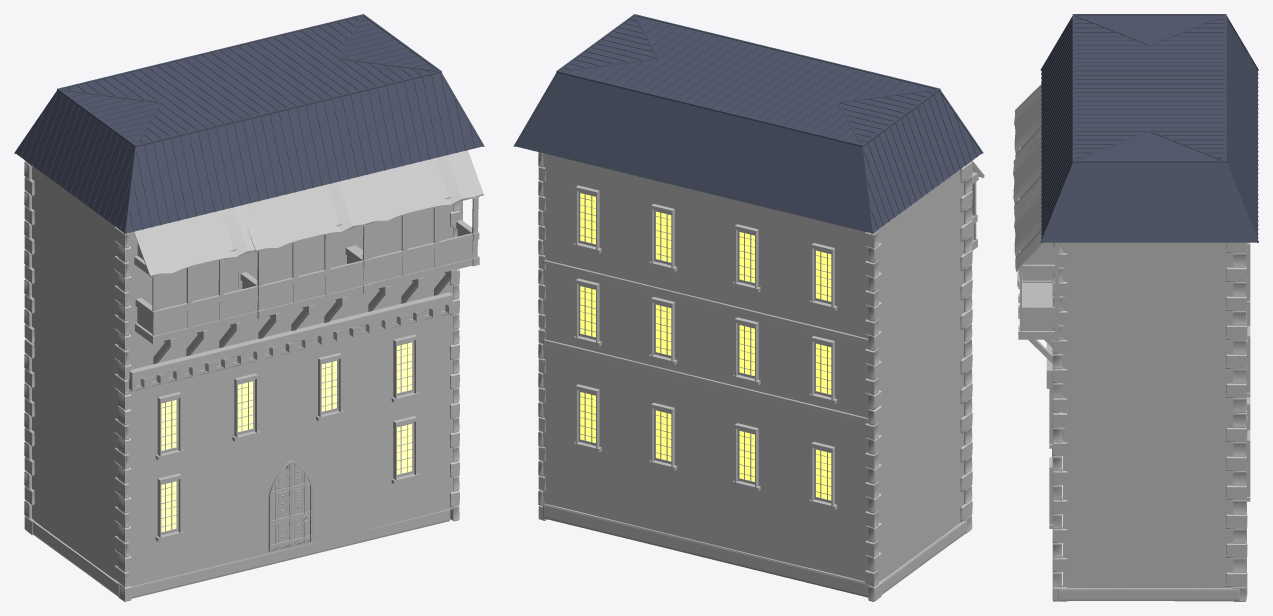
The model's file is Building 01 re.fbx.
3 views of the same model, side by side, from view 1: azimuth 30°, elevation 25°; view 2: azimuth 150°, elevation 25°; view 3: azimuth 270°, elevation 25° (orthographic).
Parts seen in each view (by area): view 1: LOD_0; view 2: LOD_0; view 3: LOD_0.
Part boxes in pixels (x1,y1,x2,y2): LOD_0: [14, 14, 484, 601]; LOD_0: [513, 14, 984, 601]; LOD_0: [1013, 14, 1258, 601].
Size of what is drawn, in the model's own units: 1621 by 1911 by 974.
